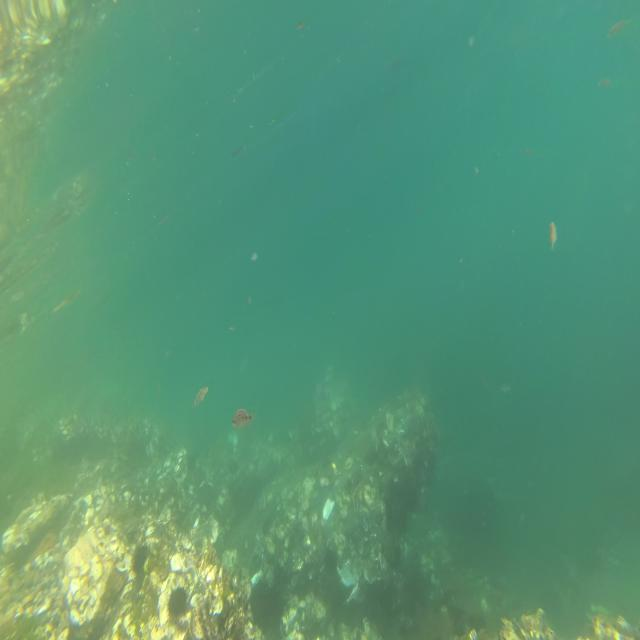echinus: (169, 583, 188, 621), (131, 542, 149, 575)
